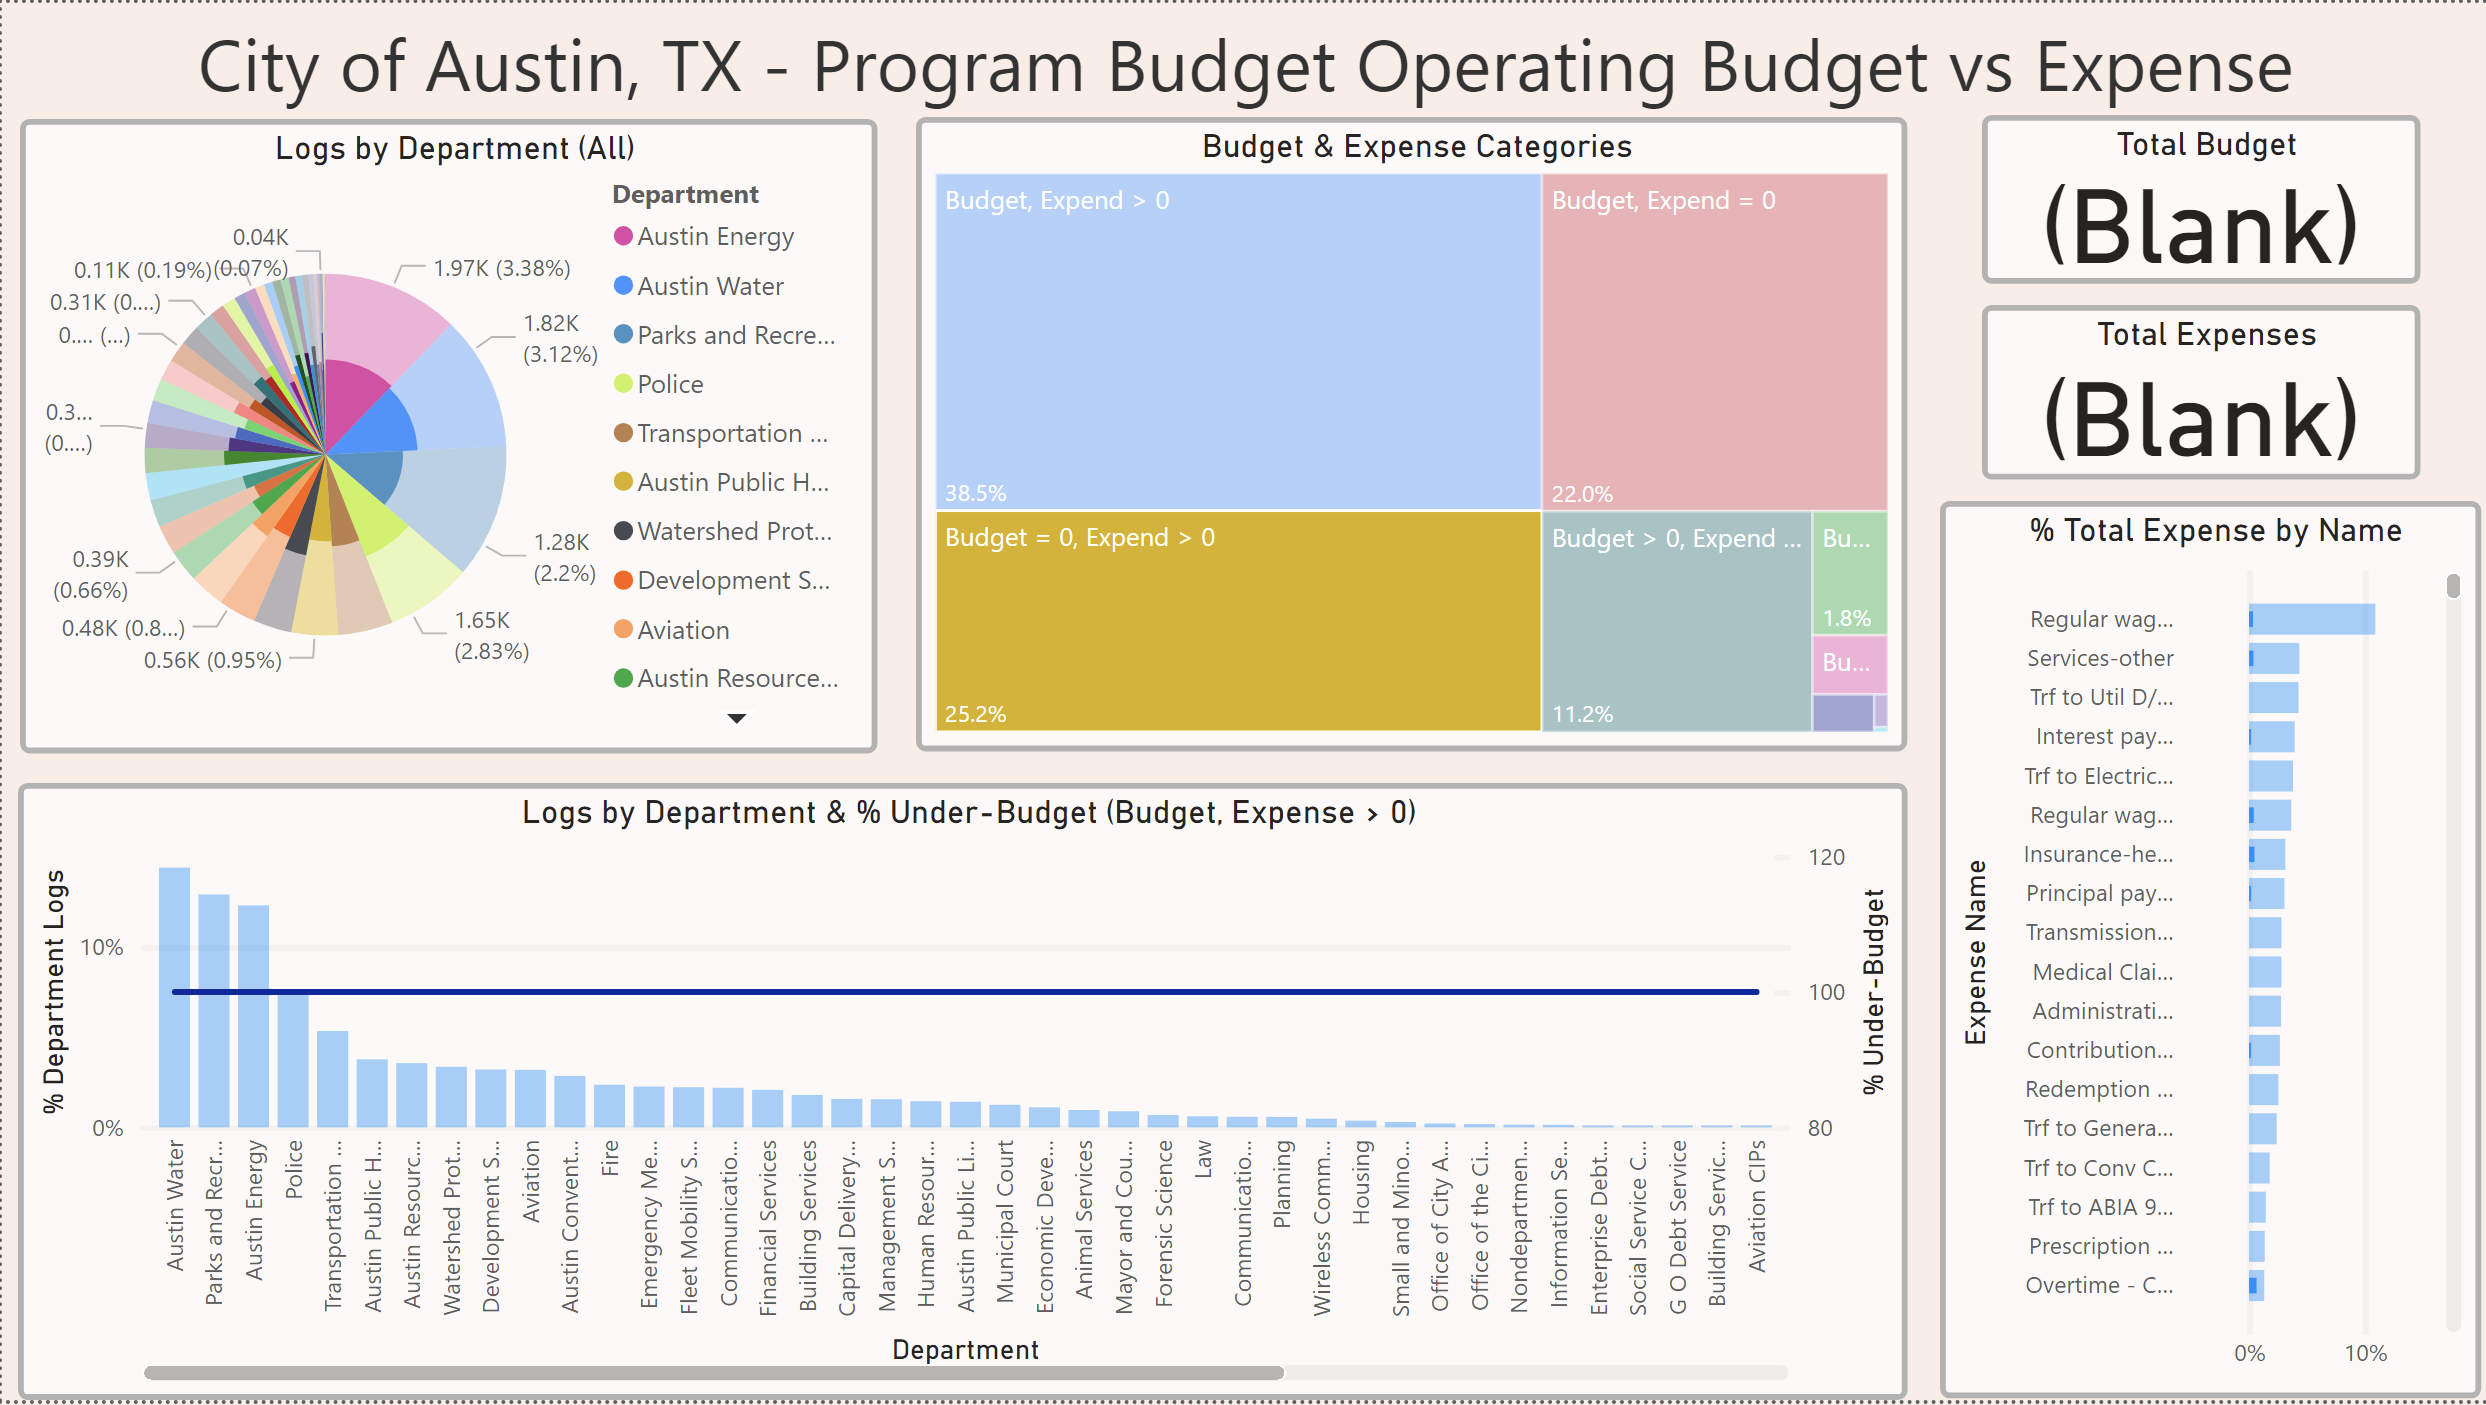

Layout of this report page (visuals, bound fields, positions):
{"tool":"powerbi","page":{"name":"Mini-Dashboard","canvas":[1280,720],"ordinal":0},"visuals":[{"type":"pieChart","title":"Logs by Department (All)","fields":{"Category":["AustinTXData budget.DEPARTMENT_NAME"],"Y":["CountNonNull(AustinTXData budget.DEPARTMENT_NAME)"]},"box":[9,60,442,327],"z":0},{"type":"treemap","title":"Budget & Expense Categories","fields":{"Group":["AustinTXData budget.BudgetExpendCateg"],"Values":["CountNonNull(AustinTXData budget.BudgetExpendCateg)"]},"box":[471,59,511,327],"z":1000},{"type":"barChart","title":"% Total Expense by Name","fields":{"Category":["AustinTXData budget.EXPENSE_NAME"],"Y":["Divide(Sum(AustinTXData budget.EXPENDITURES), ScopedEval(Sum(AustinTXData budget.EXPENDITURES), []))"]},"box":[998.8,256.2,278.8,462.5],"z":2000},{"type":"lineStackedColumnComboChart","title":"Logs by Department & % Under-Budget  (Budget, Expense > 0)","fields":{"Category":["AustinTXData budget.DEPARTMENT_NAME"],"Y2":["AustinTXData budget.PercUnderBudget"],"Y":["Divide(CountNonNull(AustinTXData budget.DEPARTMENT_NAME), ScopedEval(CountNonNull(AustinTXData budget.DEPARTMENT_NAME), "]},"box":[8,402,974,318],"z":3000},{"type":"card","title":"Total Budget","fields":{"Values":["AustinTXData budget.TotalBudget"]},"box":[1021,58,226,87],"z":4000},{"type":"card","title":"Total Expenses","fields":{"Values":["Sum(AustinTXData budget.EXPENDITURES)"]},"box":[1021,156,226,90],"z":5000},{"type":"textbox","box":[82.5,0,1117.5,63],"z":5001}]}

Visuals, with their boxes in screenshot pixels (x1, y1, x2, y2), scaled from the page's 1280x720 canvas onto the 2486x1405 screenshot:
"Logs by Department (All)" pieChart: <region>17, 117, 876, 755</region>
"Budget & Expense Categories" treemap: <region>915, 115, 1907, 753</region>
"% Total Expense by Name" barChart: <region>1940, 500, 2481, 1402</region>
"Logs by Department & % Under-Budget  (Budget, Expense > 0)" lineStackedColumnComboChart: <region>16, 784, 1907, 1404</region>
"Total Budget" card: <region>1983, 113, 2422, 283</region>
"Total Expenses" card: <region>1983, 304, 2422, 480</region>
textbox: <region>160, 0, 2331, 123</region>
